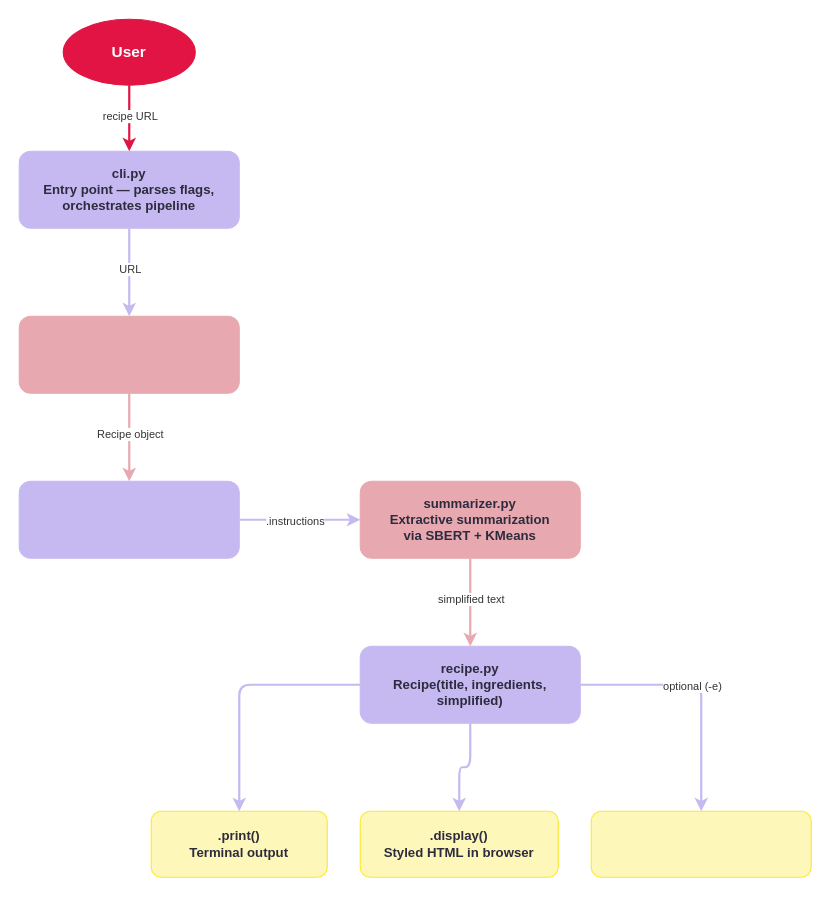
This 831x897 diagram has some shape labels left out. The box of each missing label's shape, as (x1, y1, x2, y2) in pixels:
eval.py RecipeSummarizationEvaluator Similarity · Compression · Readability: (590, 810, 811, 877)
parser.py Scrapes URL with cloudscraper + recipe-scrapers: (18, 315, 239, 393)
recipe.py Recipe(title, ingredients, instructions): (18, 480, 239, 558)
